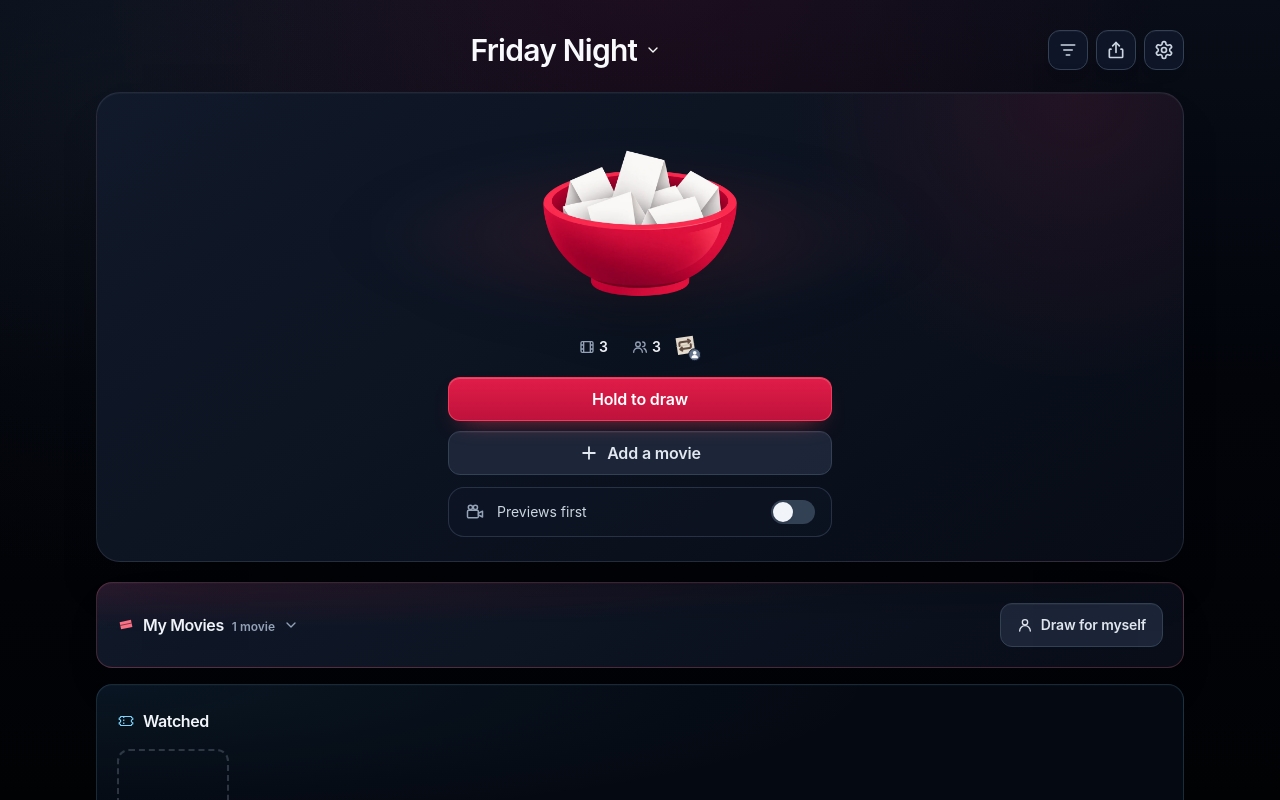
Test: BowlDashboard rotation turn order › lists a rotation bowl's people in the order the next draws reach them
Click the button named "3 people in this bowl. See who.".
click(646, 347)  # box [632,339,661,355]
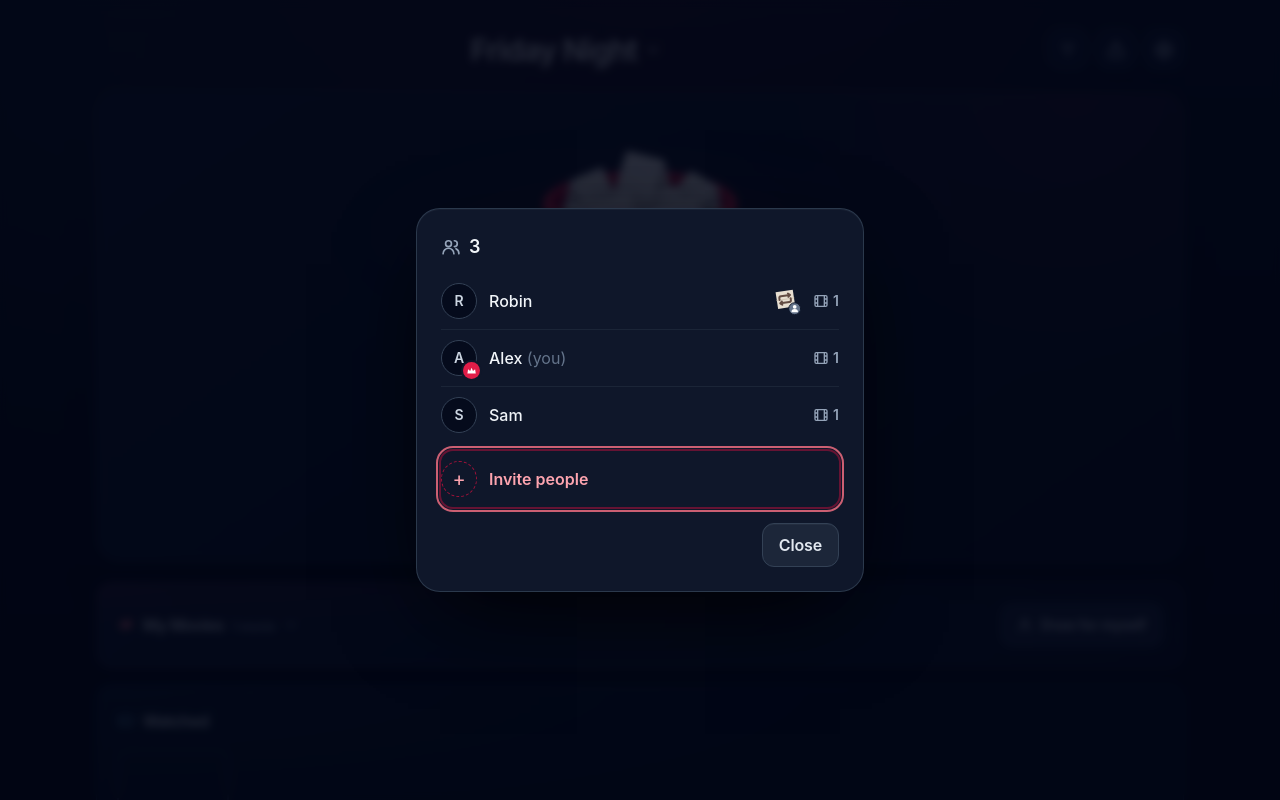
Expected: the number of list items is 3, [441,273,839,329]; [441,329,839,386]; [441,386,839,443]
